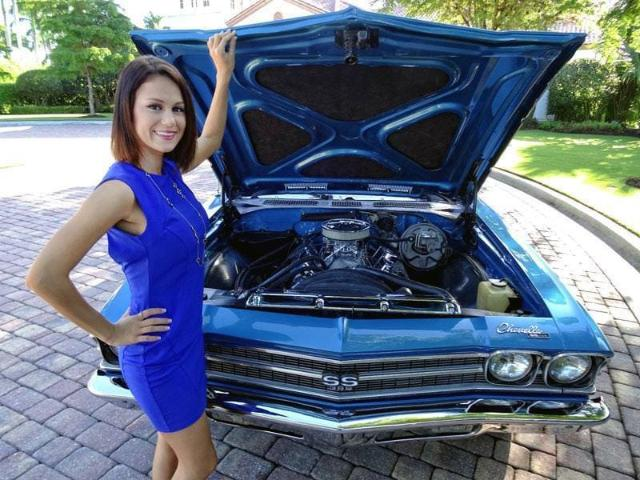chevelle-1972: (175, 7, 614, 446)
